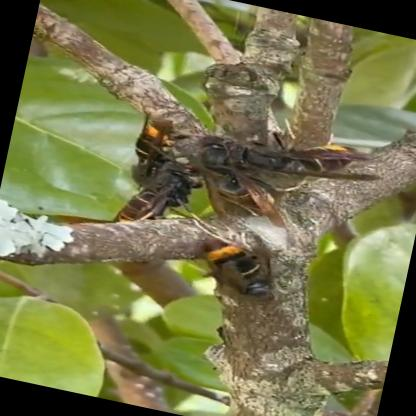bee: (75, 72, 402, 336)
